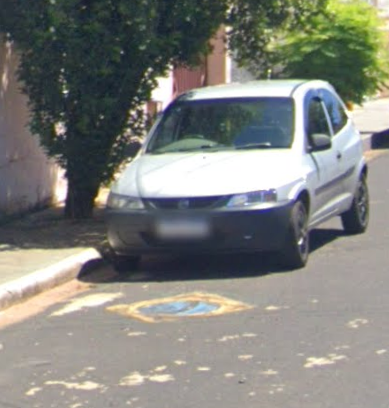car: (100, 67, 379, 268)
